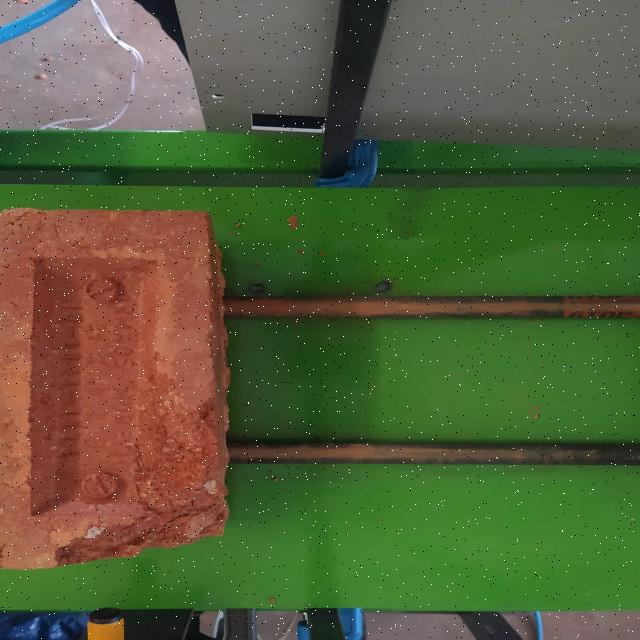bricks_ruin: (0, 208, 238, 570)
